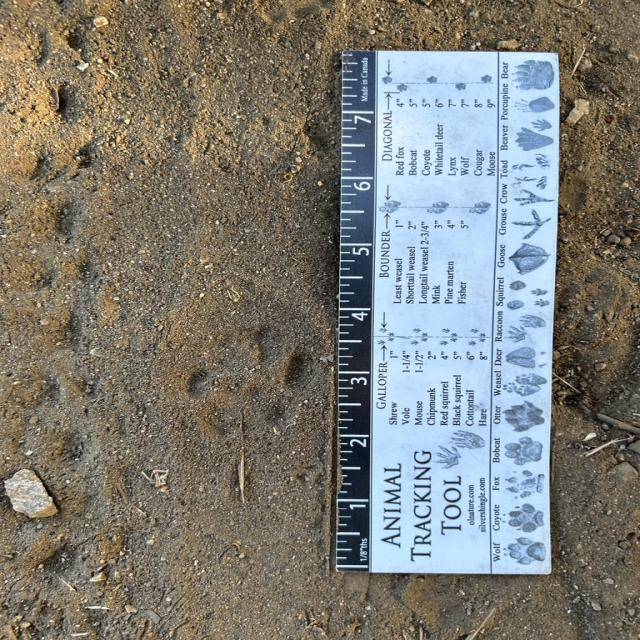felid: (182, 322, 306, 432)
